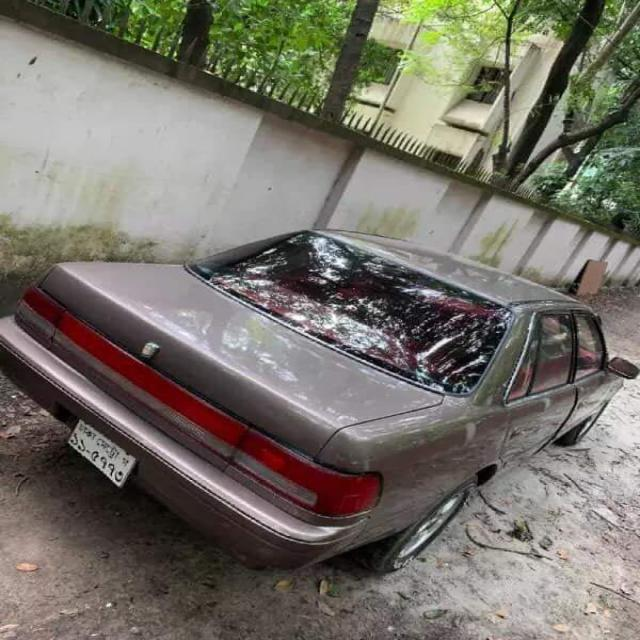black: (5, 214, 640, 554)
